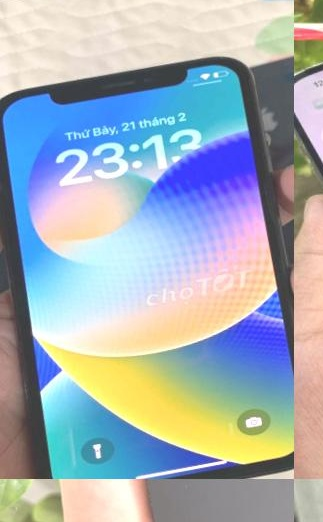scratch: (294, 40, 323, 92)
